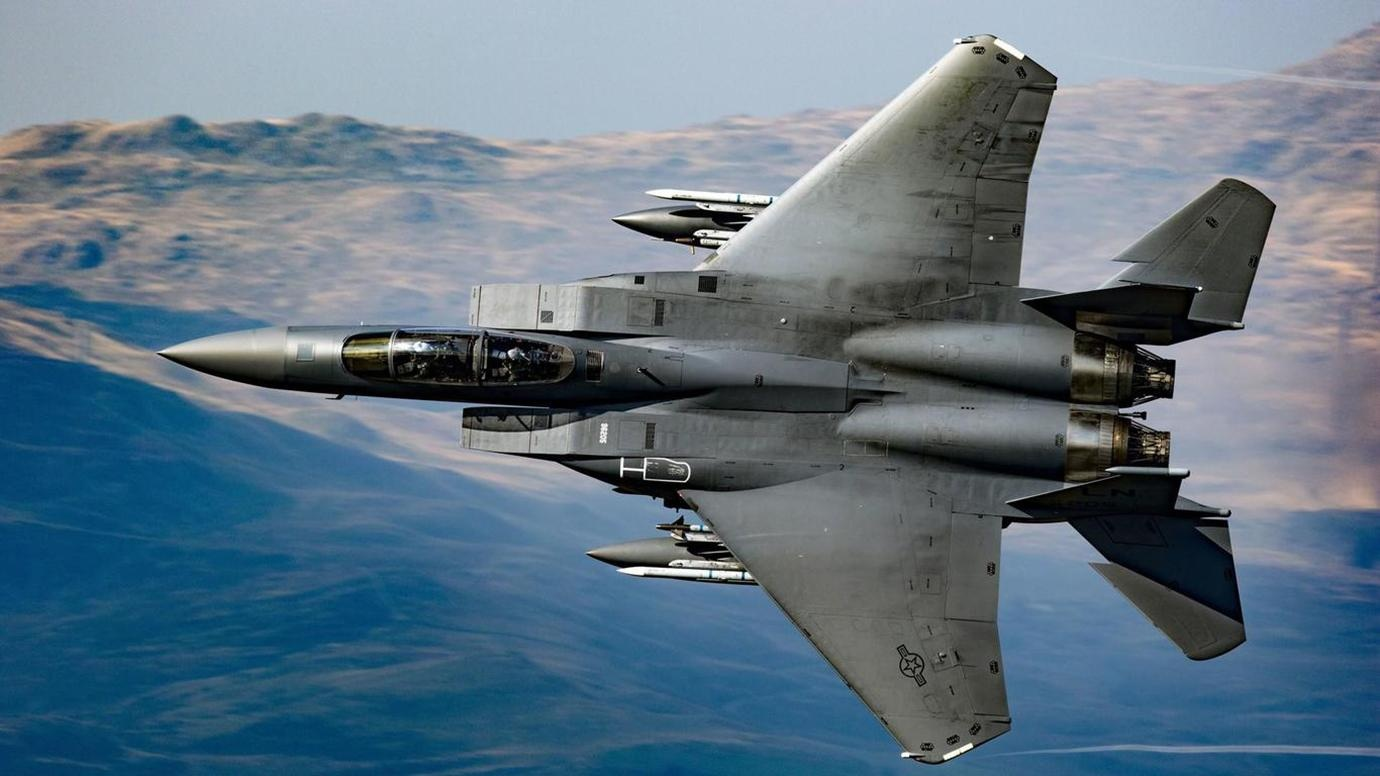aircraft: (128, 39, 1268, 761)
